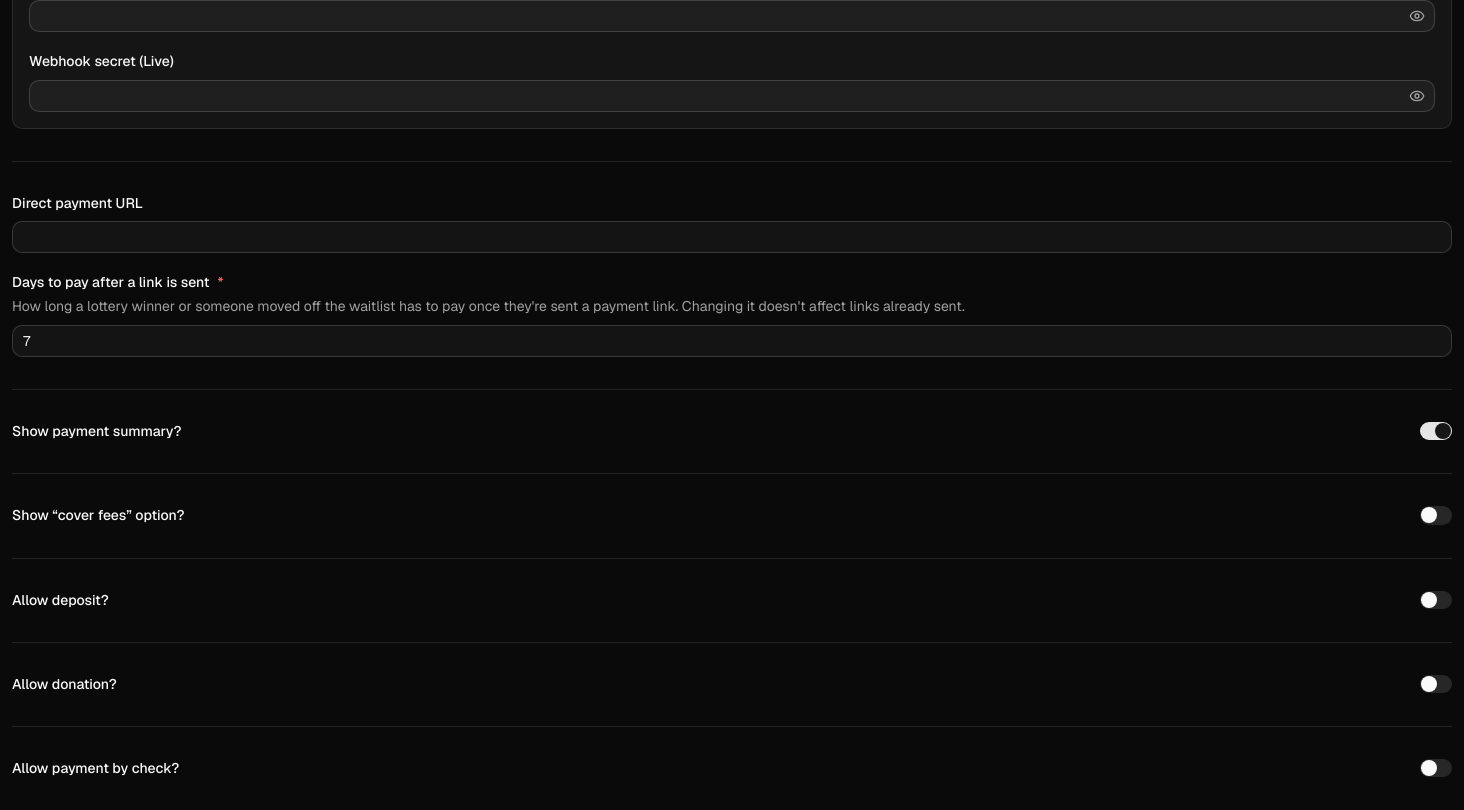
PaymentsForm › switching processors › shows the new processor's credentials and keeps the previous one's in the save
(page scrolled)
Click the switch named "cover fees" in the row of "Show “cover fees” option?" at (1436, 516), box [1420,506,1452,525]
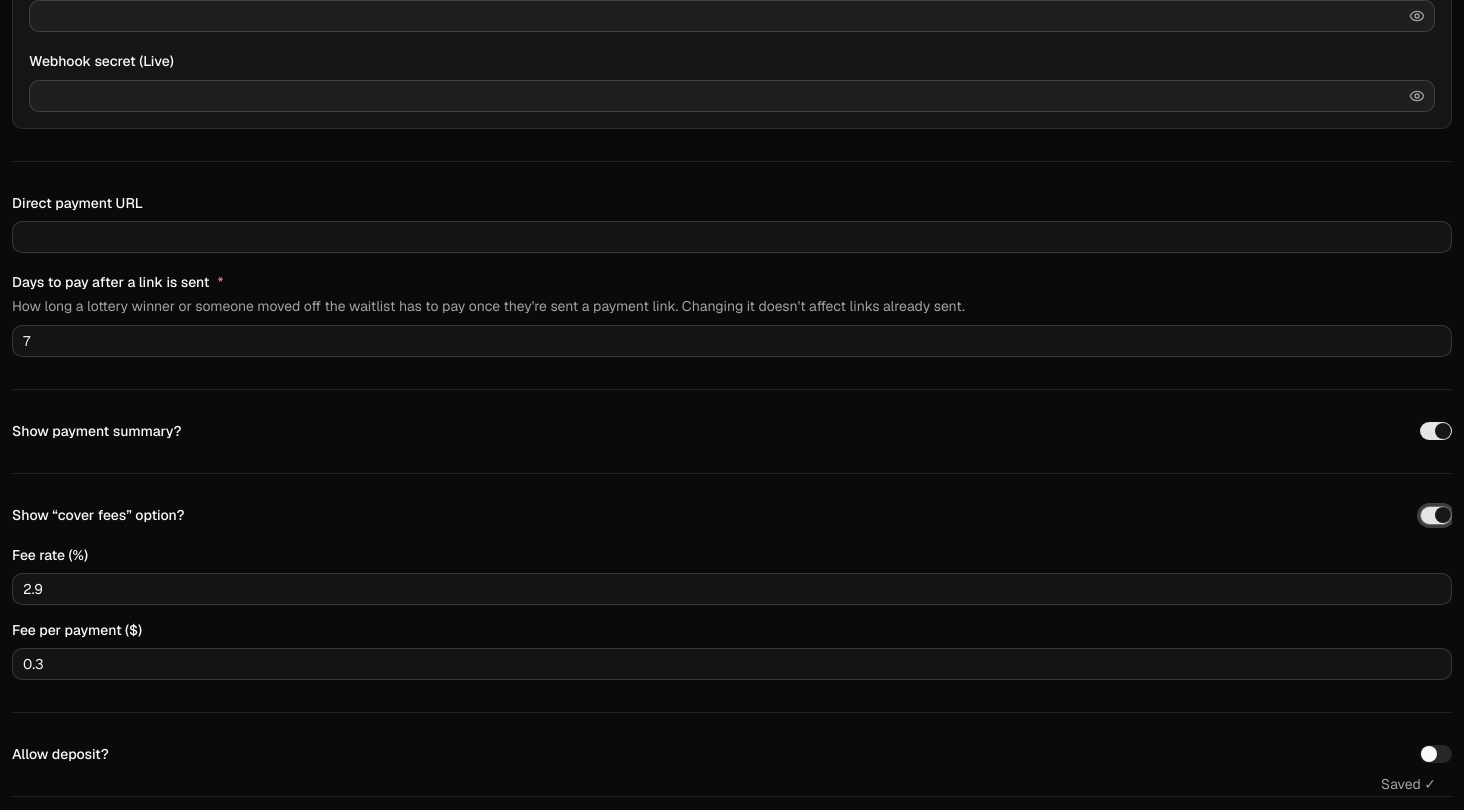
Type "sk_live" into the password field labelled "Secret key (Live)" at (732, 16), box [29,0,1435,32]
(page scrolled)
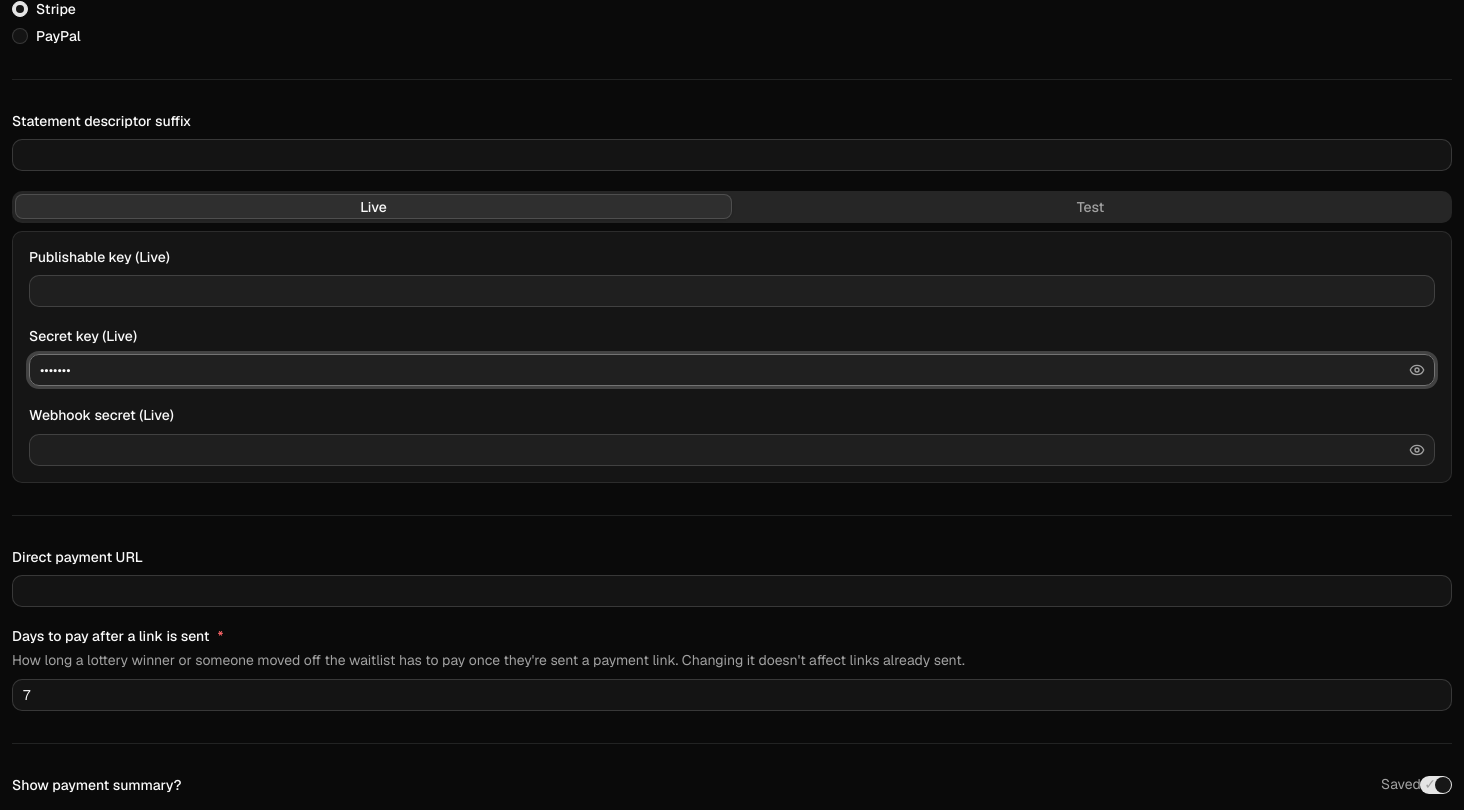
Click the radio button named "PayPal" next to "PayPal" at (20, 36), box [12,28,28,44]
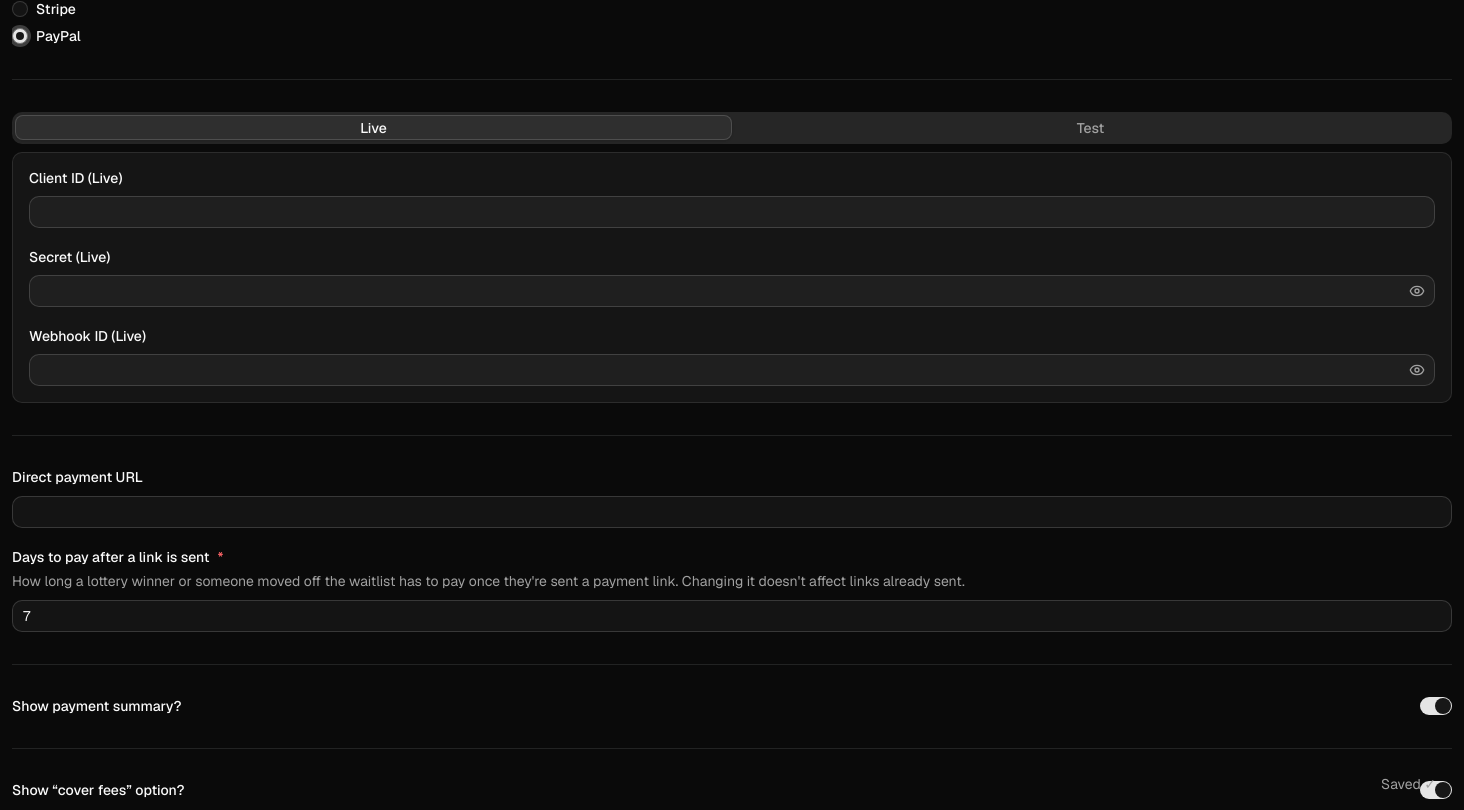
Now the switch named "cover fees" in the row of "Show “cover fees” option?" is checked, box [1420,781,1452,799]
Now the label labelled "Secret key (Live)" is gone
Now the field labelled "Client ID (Live)" is empty, box [29,196,1435,228]
